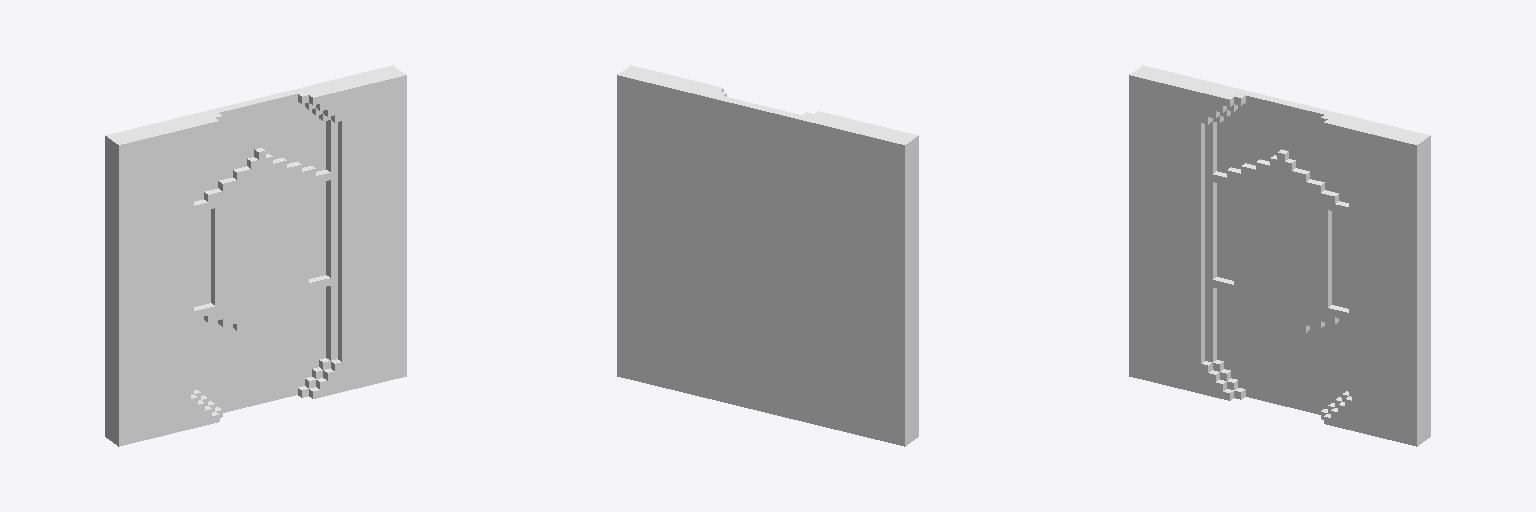
Rendered from wallWithWindow5-1-lod2.obj.
3 renders of one model, left to right at view 1: azimuth 30°, elevation 25°; view 2: azimuth 150°, elevation 25°; view 3: azimuth 330°, elevation 25°, orthographic.
Parts seen in each view (by area): view 1: lod2; view 2: lod2; view 3: lod2.
Boxes of the visible parts, <box> form: lod2: <box>105,65,406,446</box>; lod2: <box>617,65,918,446</box>; lod2: <box>1129,65,1430,446</box>.
Bounding box in the file's own units: 16 × 16 × 1.3.